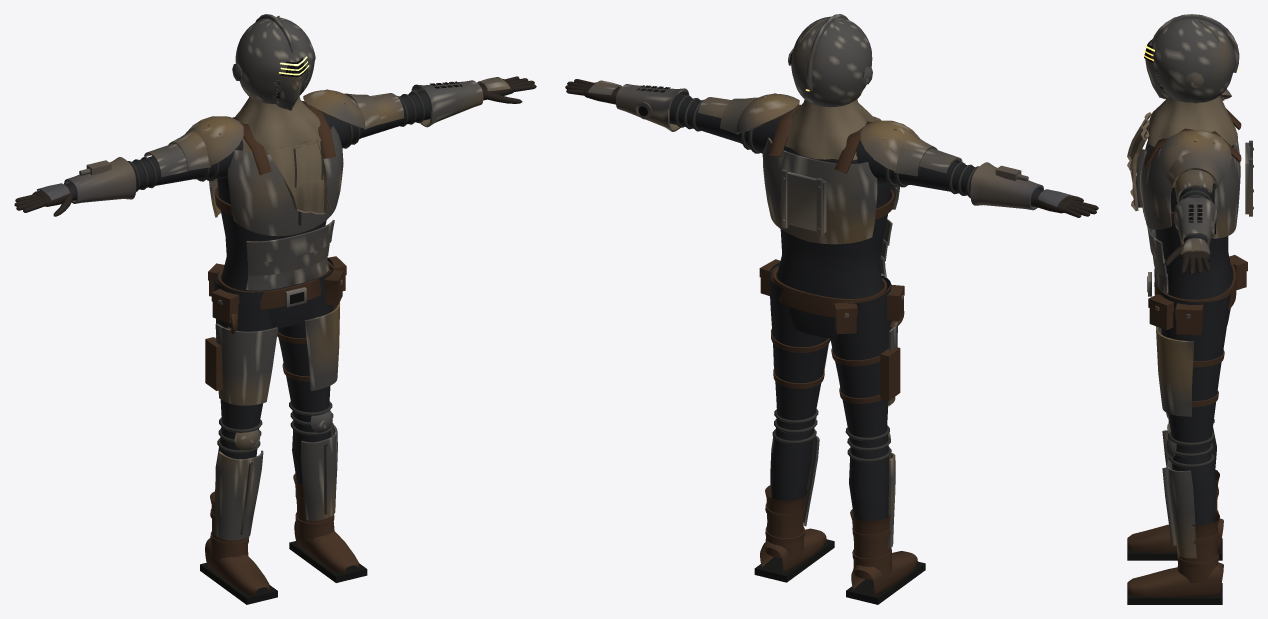
File: hunter_helmeted.glb
The picture shows the model from 3 angles, left to right: view 1: azimuth 30°, elevation 25°; view 2: azimuth 150°, elevation 25°; view 3: azimuth 270°, elevation 25°; orthographic projection. The views are drawn at different scales.
Parts seen in each view (by area): view 1: hunter_helmeted_mesh; view 2: hunter_helmeted_mesh; view 3: hunter_helmeted_mesh.
Boxes of the visible parts, <box> form: hunter_helmeted_mesh: <box>14,14,536,604</box>; hunter_helmeted_mesh: <box>565,14,1098,604</box>; hunter_helmeted_mesh: <box>1127,14,1253,604</box>.
Size of the model in its own units: 1.86 by 1.88 by 0.3861.
